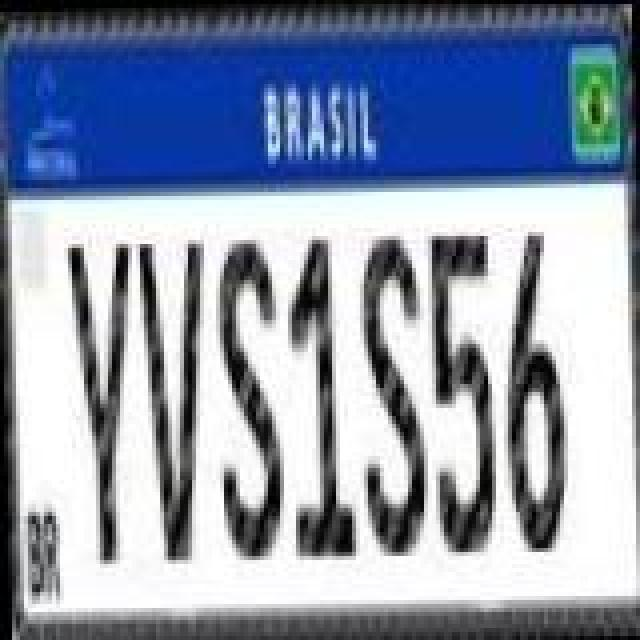1: (278, 230, 358, 558)
5: (424, 220, 500, 560)
6: (496, 224, 572, 552)
S: (210, 226, 290, 566), (354, 222, 434, 562)
V: (134, 230, 214, 570)
Y: (60, 236, 136, 564)
